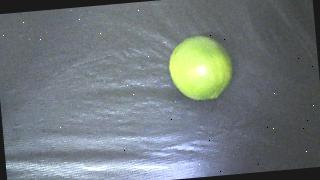LOCAL: (167, 33, 234, 102)
